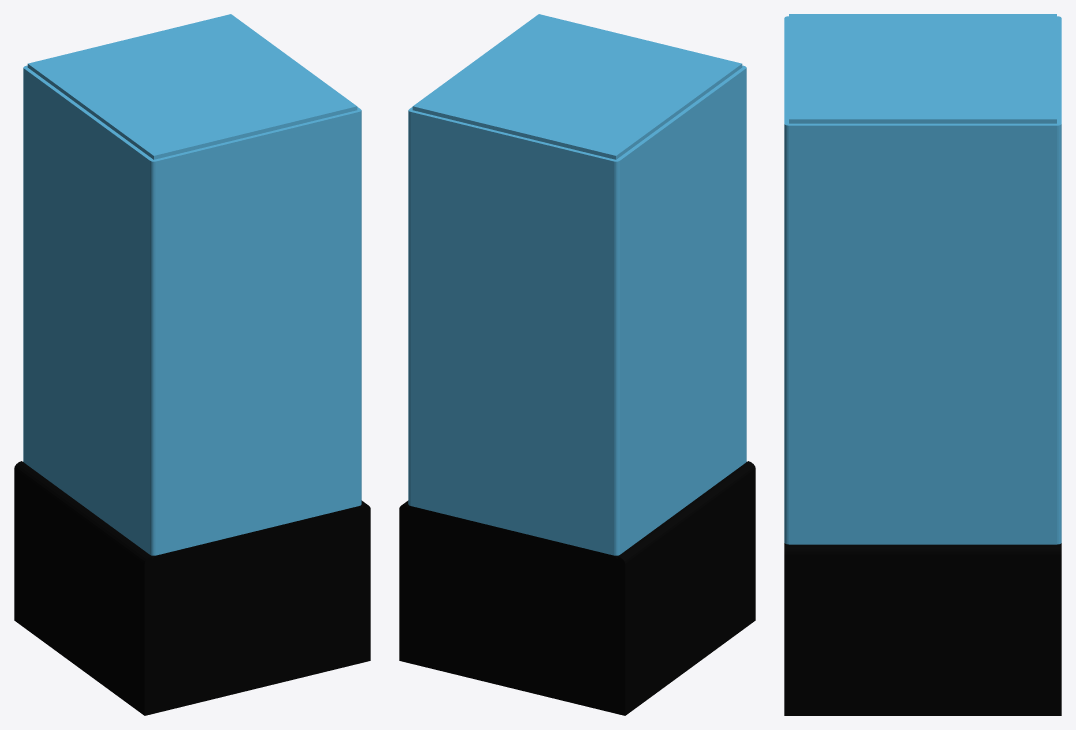
File: art_cabinet.fbx
3 views of the same model, side by side, from view 1: azimuth 30°, elevation 25°; view 2: azimuth 150°, elevation 25°; view 3: azimuth 270°, elevation 25° (orthographic). The views are drawn at different scales.
Visible parts, largest first — view 1: Cabinet_1; view 2: Cabinet_1; view 3: Cabinet_1.
Part boxes in pixels (x1,y1,x2,y2): Cabinet_1: [14, 14, 370, 715]; Cabinet_1: [399, 14, 755, 715]; Cabinet_1: [784, 14, 1061, 715].
Bounding box in the file's own units: 120 × 282 × 120.
